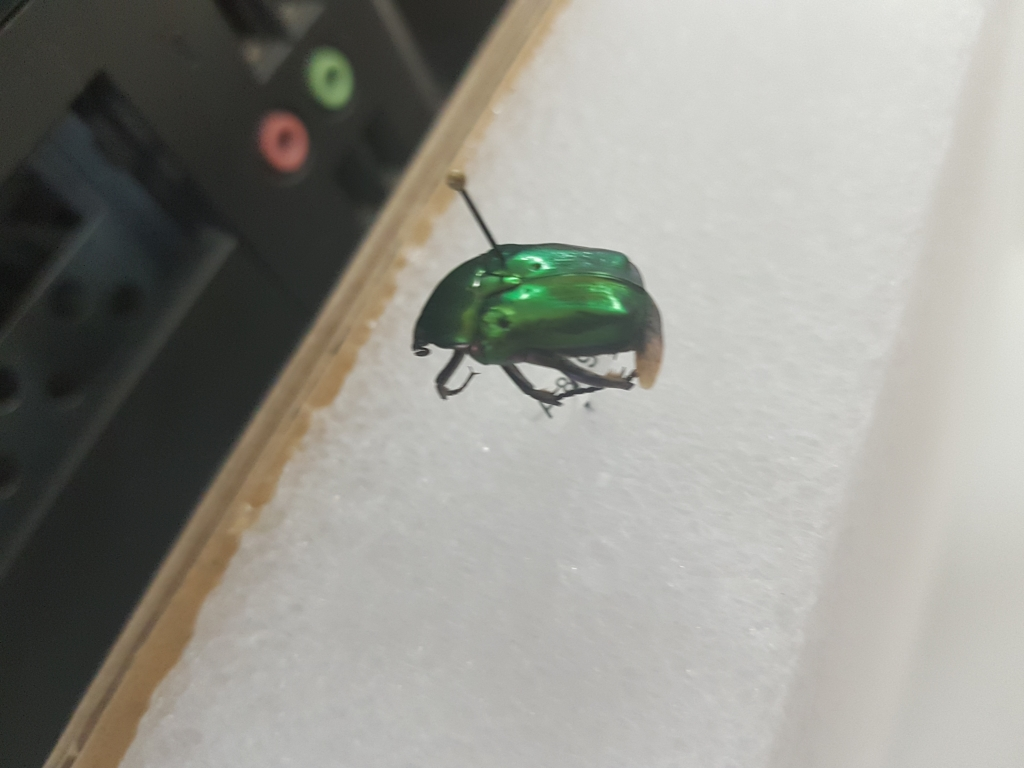Protaetia_cuprea_ignicollis: (399, 234, 665, 414)
